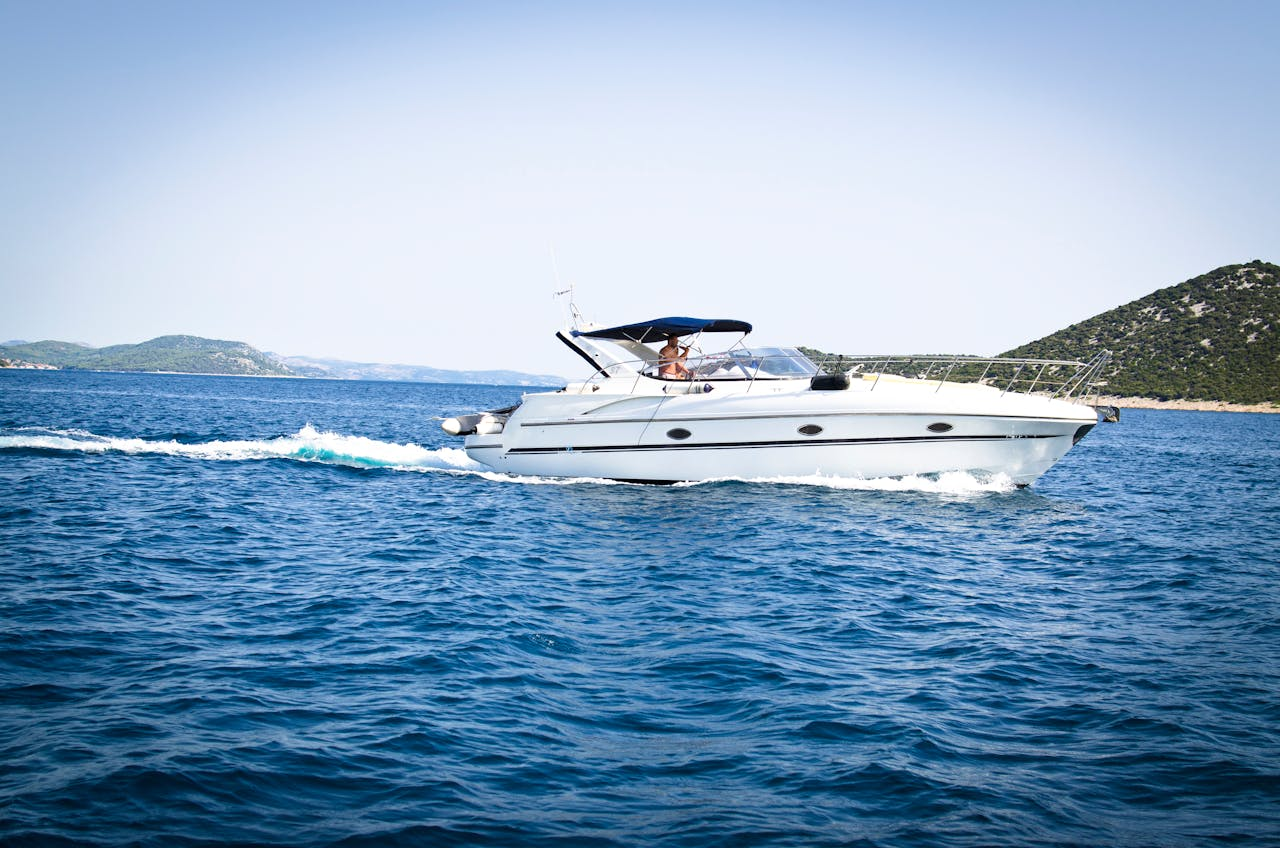boat: (435, 286, 1179, 499)
